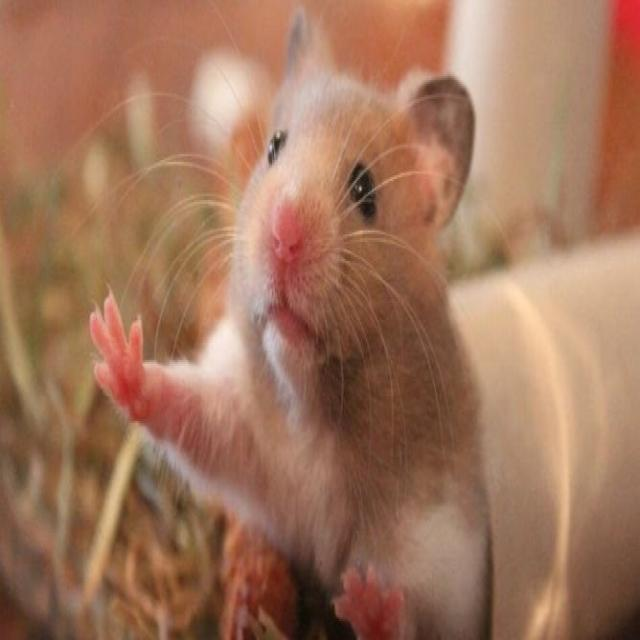hamster: (90, 11, 492, 634)
